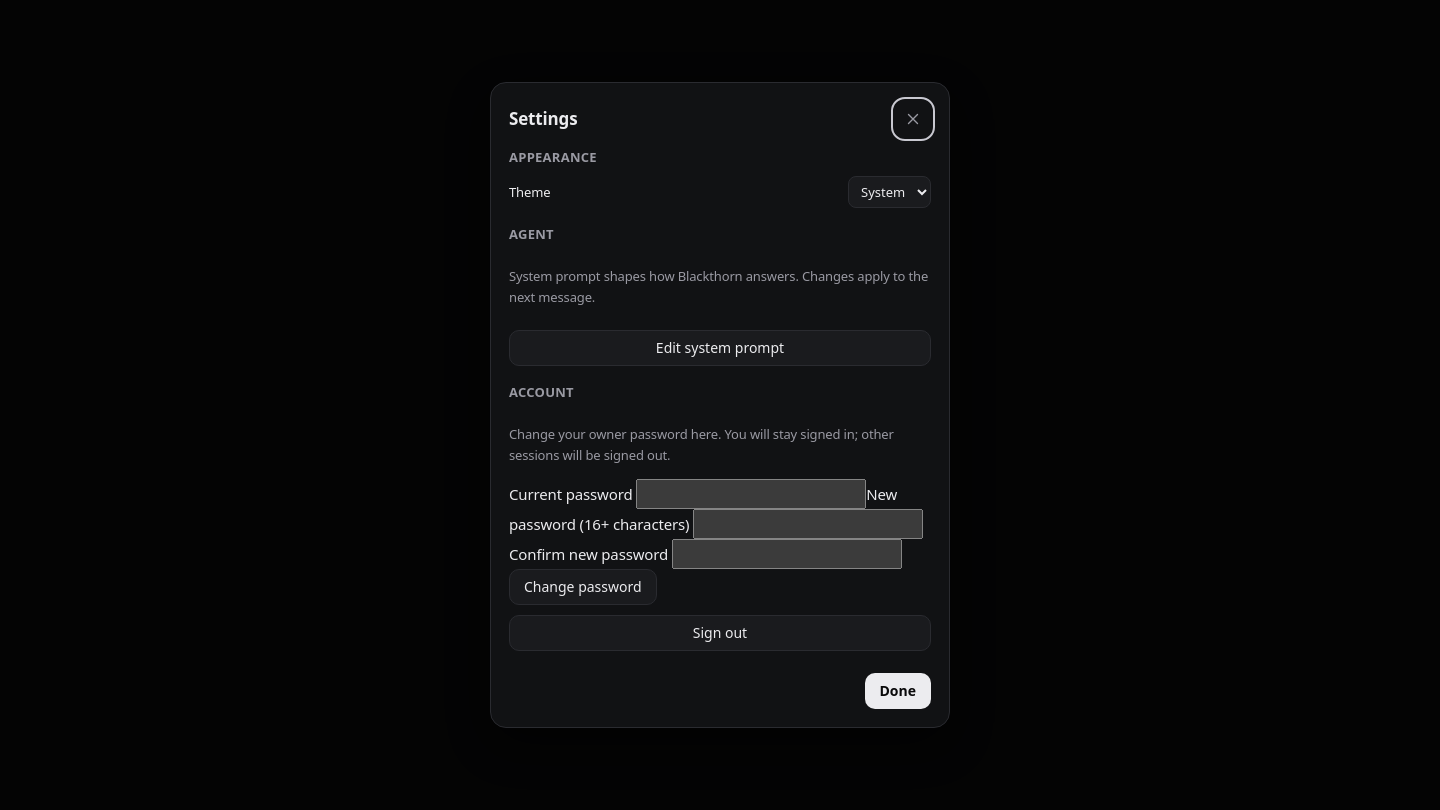
Test: password settings › changes the password and clears secret fields only after server success
Step 1. Type "old-password-123456" into the password field labelled "Current password" → (751, 494), box [636,479,866,509]
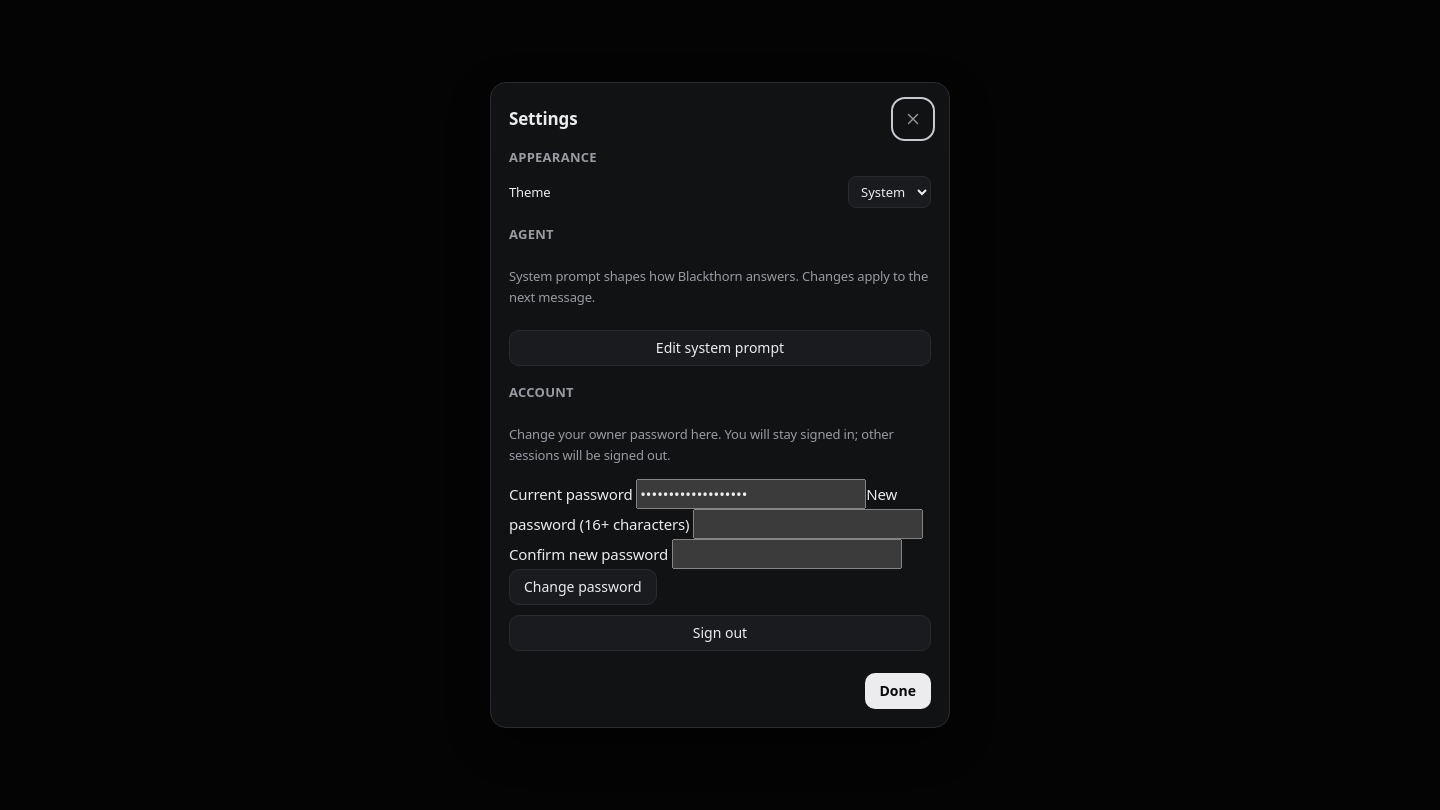
Step 2. Type "a-strong-new-password-123456" into the password field labelled "New password (16+ characters)" → (808, 524), box [693,509,923,539]
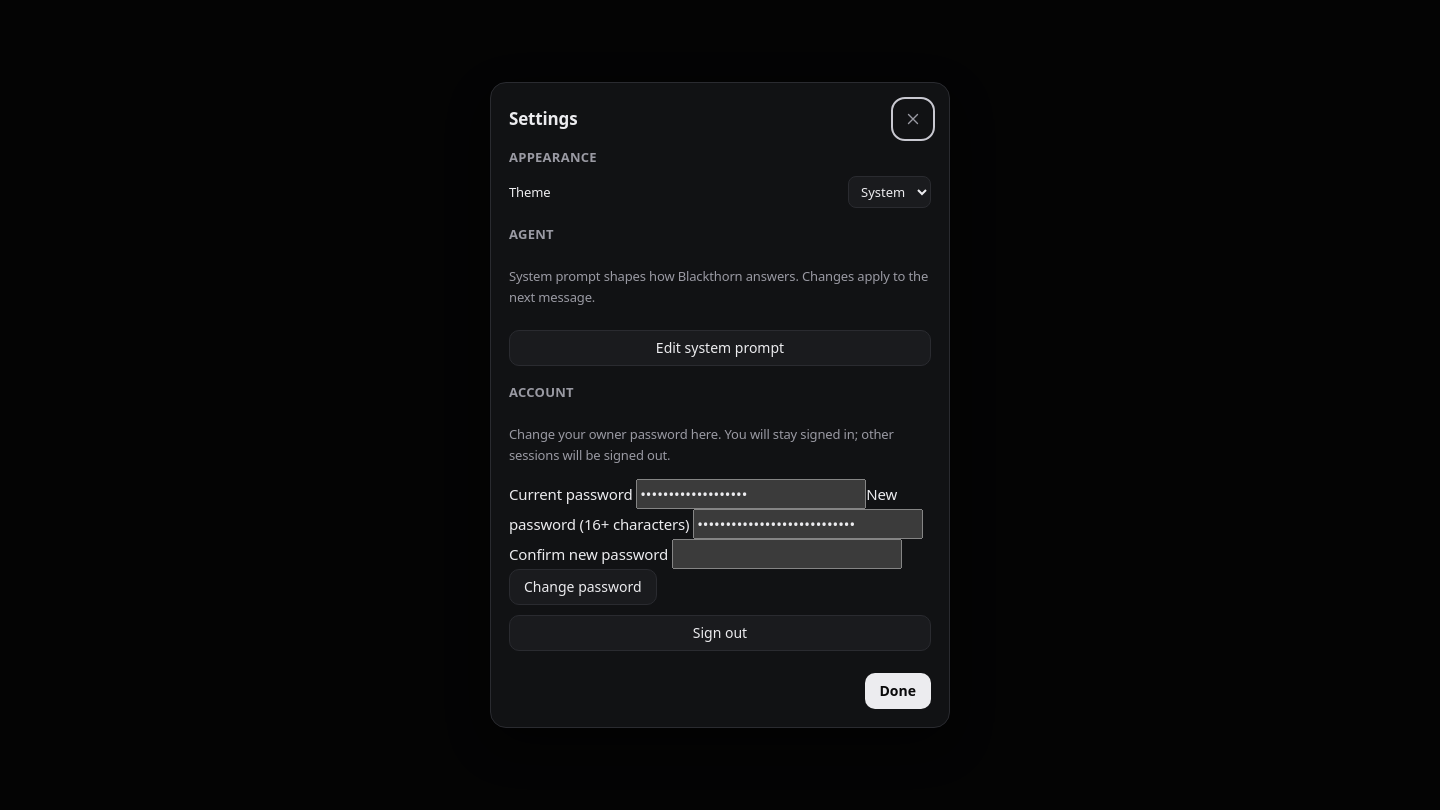
Step 3. Type "a-strong-new-password-123456" into the password field labelled "Confirm new password" → (787, 554), box [672,539,902,569]
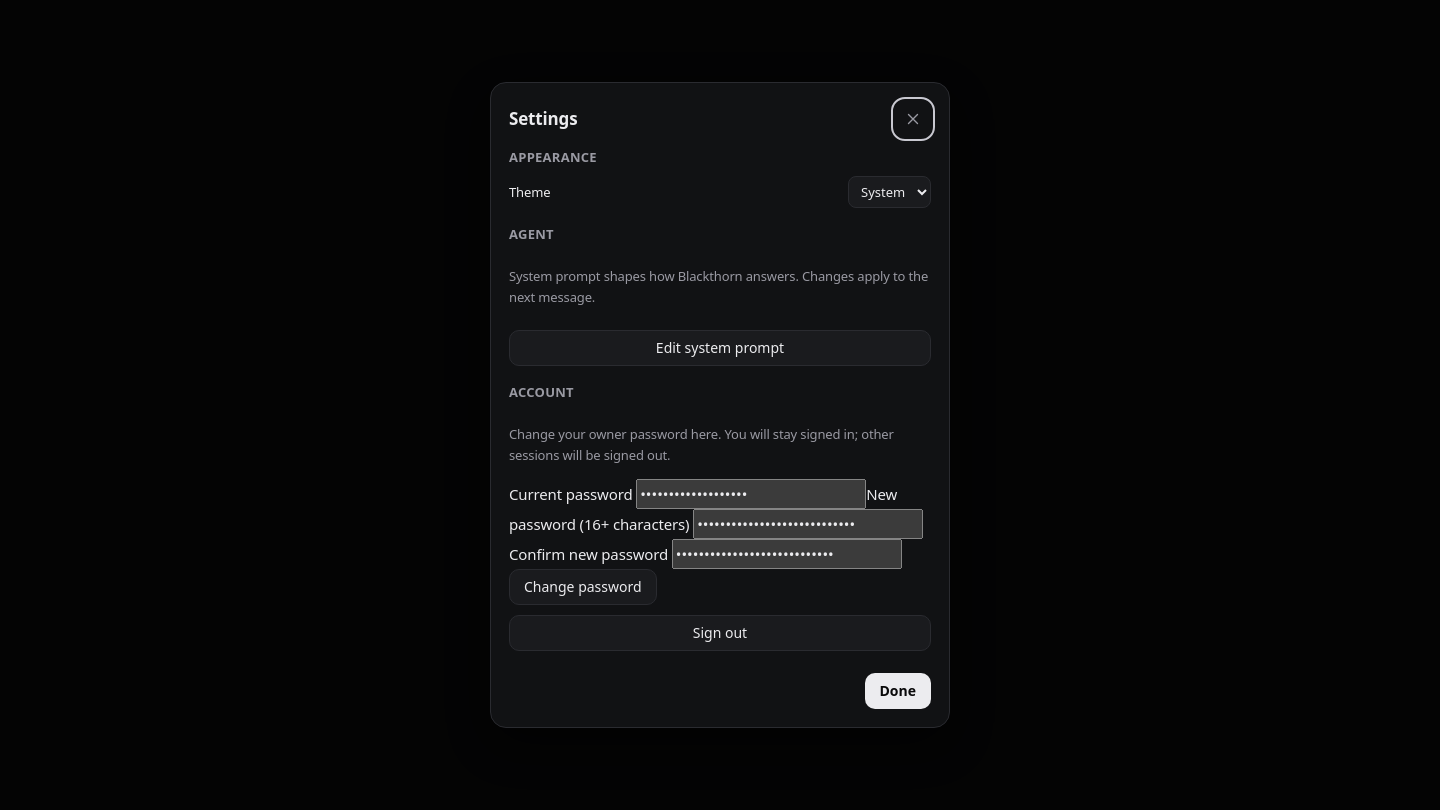
Step 4. Click the button "Change password" → (583, 587), box [509,569,657,605]
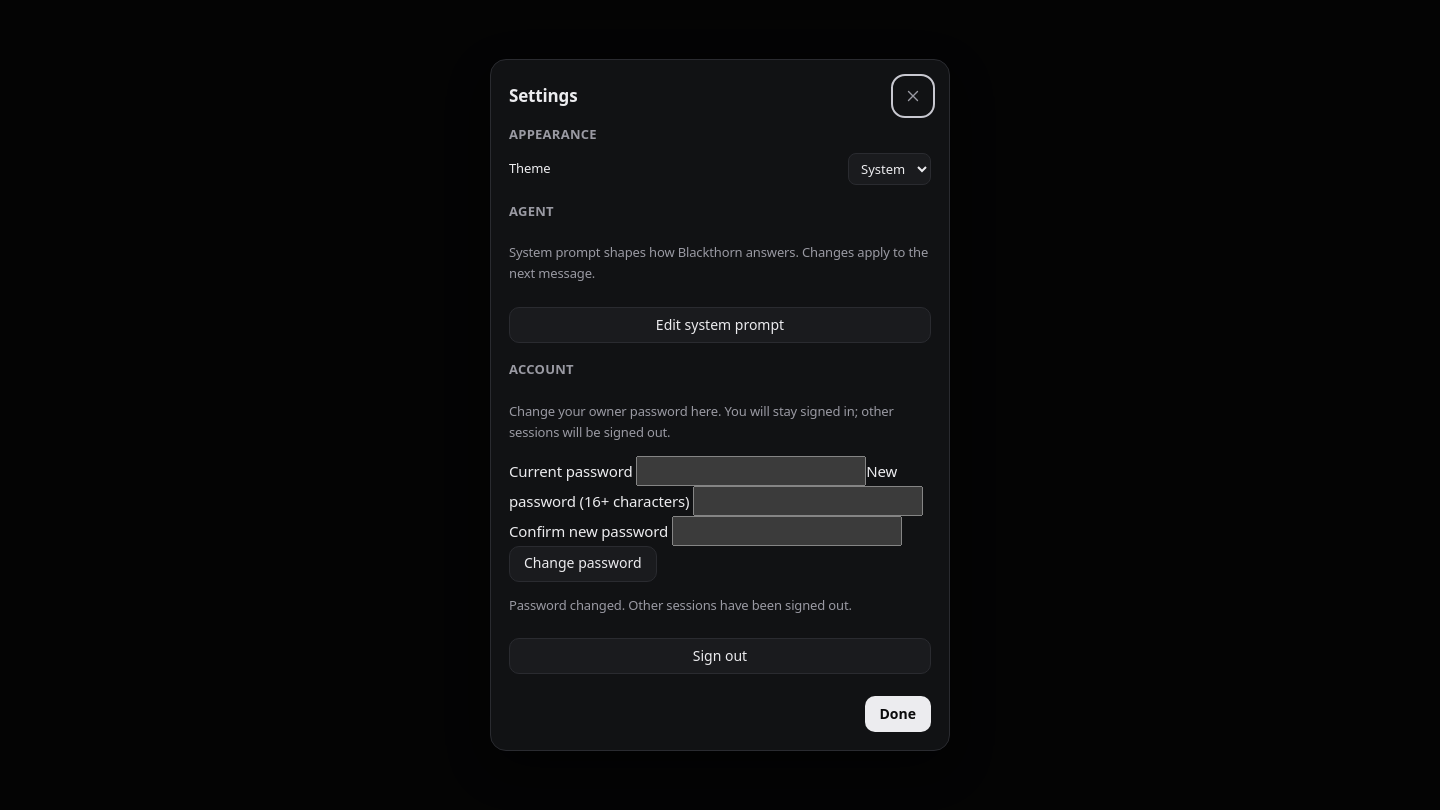
Now the message shows "Password changed", box [509,596,852,614]
Now the password field labelled "Current password" is empty, box [636,456,866,486]
Now the password field labelled "Confirm new password" is empty, box [672,516,902,546]
